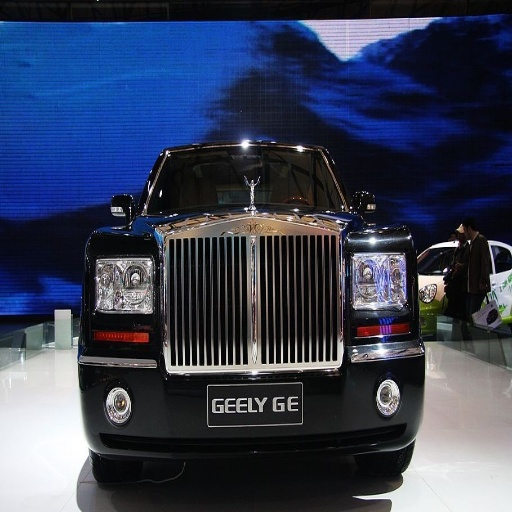back_bumper: (339, 341, 425, 447)
trunk: (298, 306, 410, 375)
